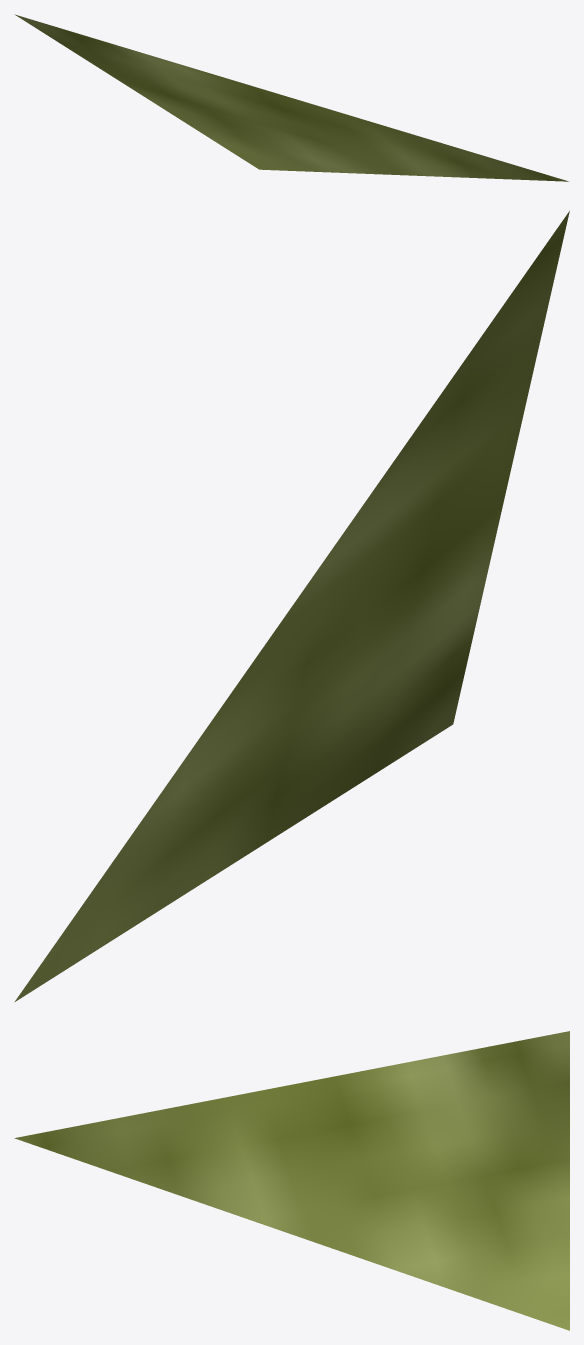
3 renders of one model, top to bottom at view 1: azimuth 30°, elevation 25°; view 2: azimuth 150°, elevation 25°; view 3: azimuth 270°, elevation 25°, orthographic. The views are drawn at different scales.
Bounding box in the file's own units: 0.287 × 0.2406 × 0.6291.
Materials: 1 (1 with a texture image).
